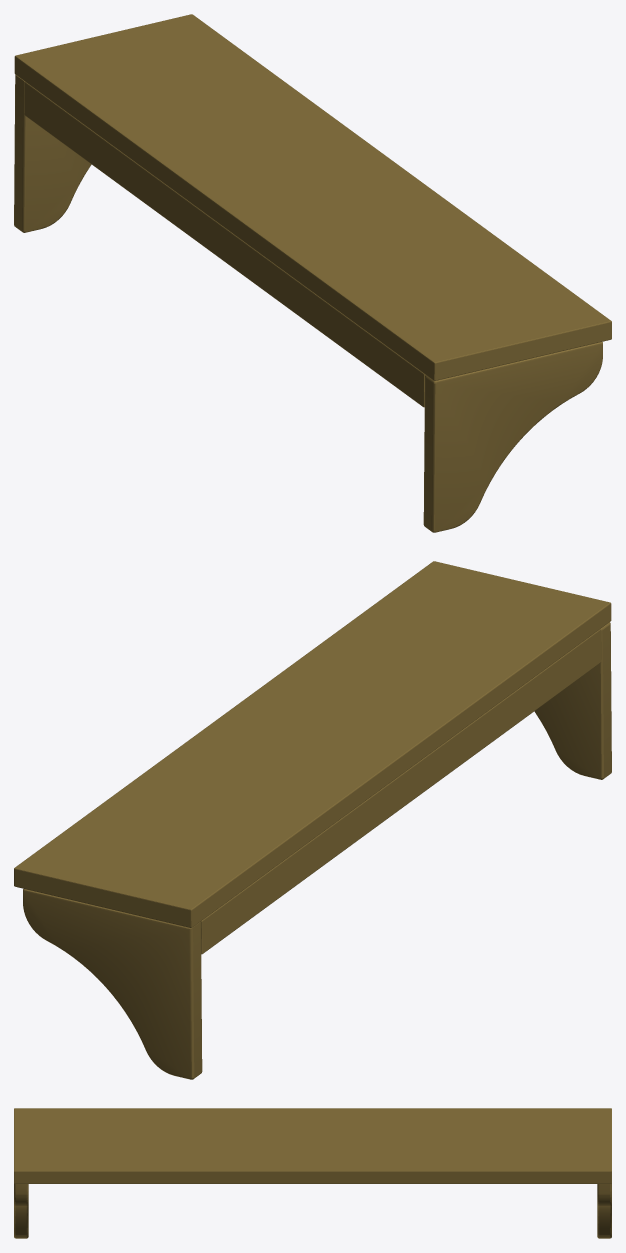
The model's file is singleshelf.FBX.
3 renders of one model, top to bottom at view 1: azimuth 30°, elevation 25°; view 2: azimuth 150°, elevation 25°; view 3: azimuth 270°, elevation 25°, orthographic. The views are drawn at different scales.
Parts seen in each view (by area): view 1: 3dSolid01; view 2: 3dSolid01; view 3: 3dSolid01.
Boxes of the visible parts, bbox=[...] form: 3dSolid01: bbox=[14, 14, 611, 532]; 3dSolid01: bbox=[14, 561, 611, 1079]; 3dSolid01: bbox=[14, 1108, 611, 1238].
Size of the model in its own units: 923 by 841 by 3746.
